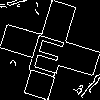E: (25, 25, 70, 78)
